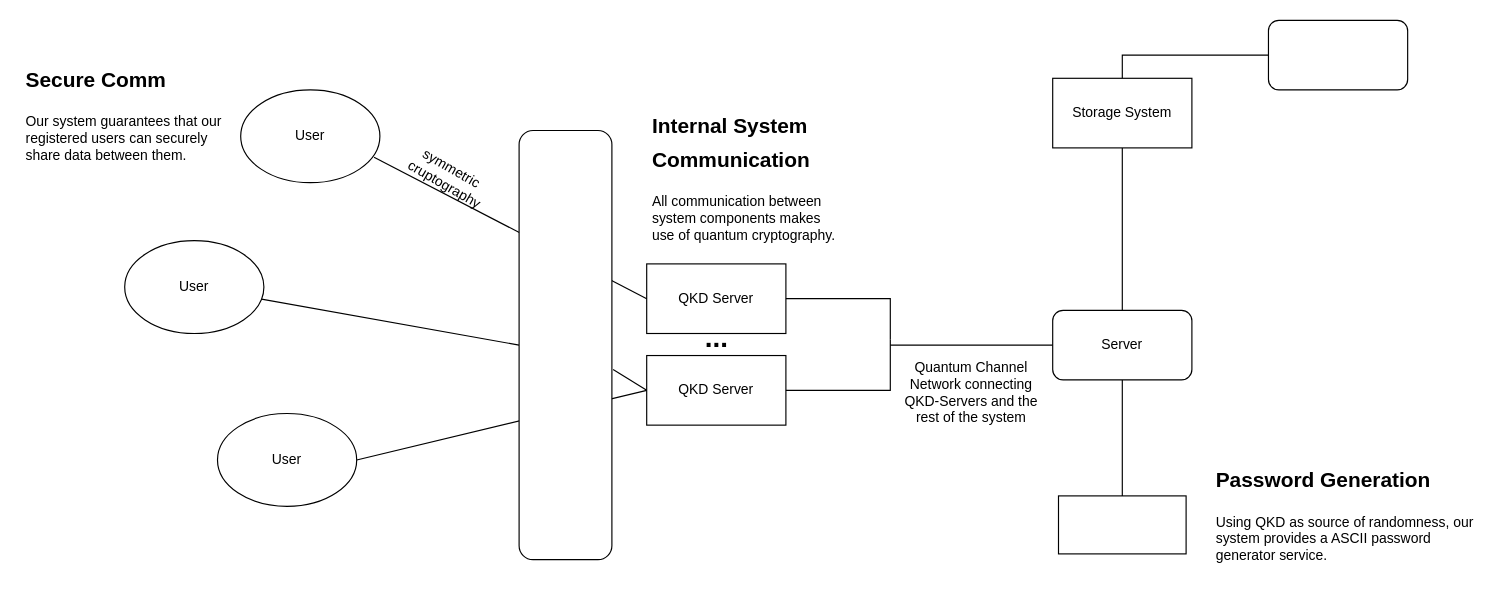
This 1508x615 diagram has some shape labels left out. Each missing label, with the box of its shape:
Database: (1267, 19, 1408, 90)
Front-End: (518, 129, 612, 560)
Password Generator: (1057, 495, 1186, 554)
